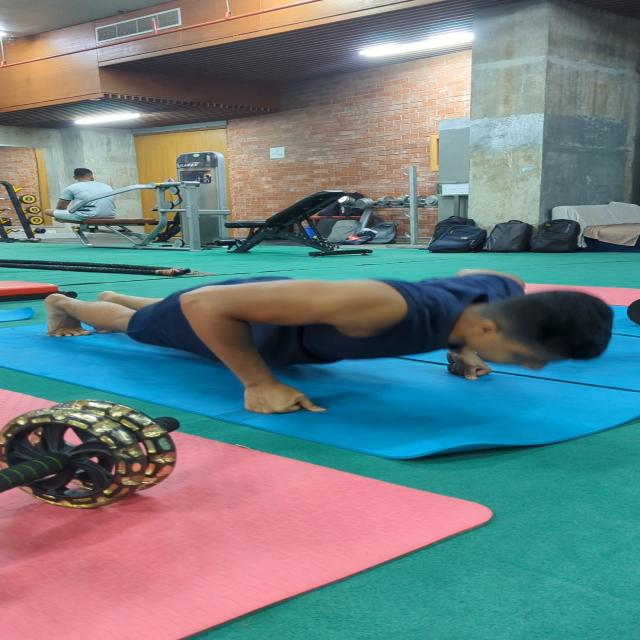Normal_PushUps: (33, 262, 616, 418)
